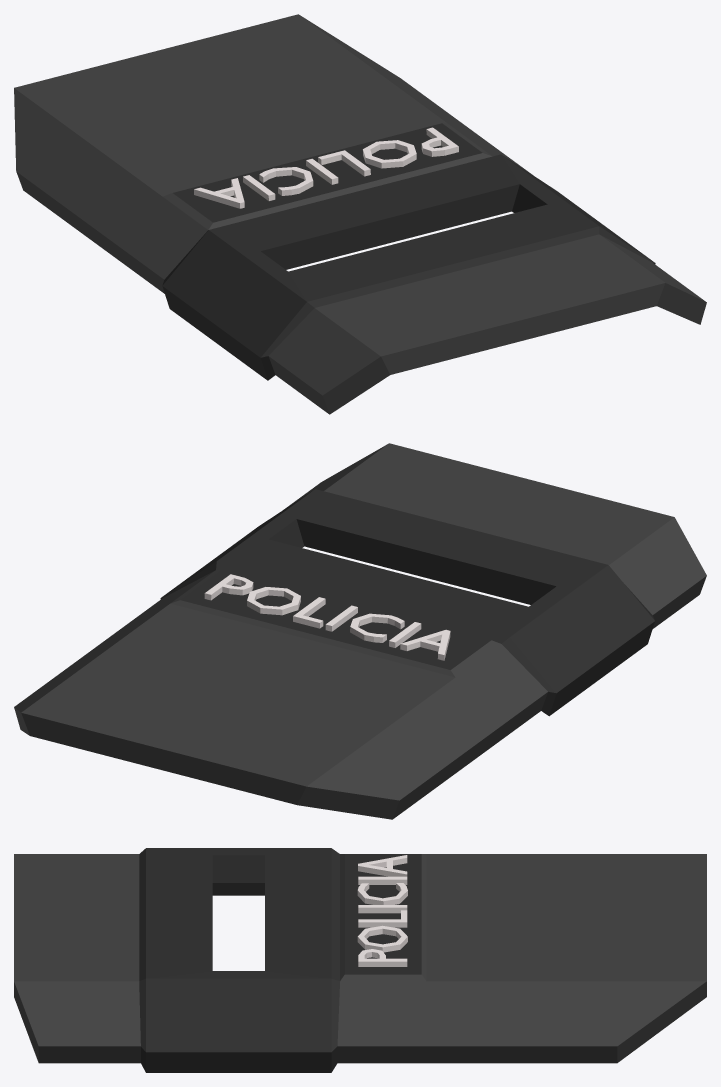
Rendered from BossShield.glb.
3 renders of one model, top to bottom at view 1: azimuth 30°, elevation 25°; view 2: azimuth 150°, elevation 25°; view 3: azimuth 270°, elevation 25°, orthographic. The views are drawn at different scales.
Visible parts, largest first — view 1: PoliceShield; view 2: PoliceShield; view 3: PoliceShield.
Boxes of the visible parts, x1,y1,x2,y2 form: PoliceShield: (14,14,706,414); PoliceShield: (14,443,706,819); PoliceShield: (14,848,706,1072).
Size of the model in its own units: 1.04 by 0.2019 by 1.68.
Materials: 1 (1 with a texture image).
